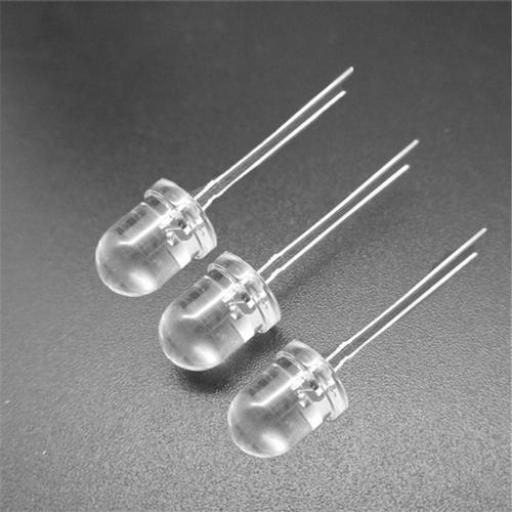LED: (65, 161, 269, 301), (149, 222, 301, 388), (246, 303, 374, 475)
